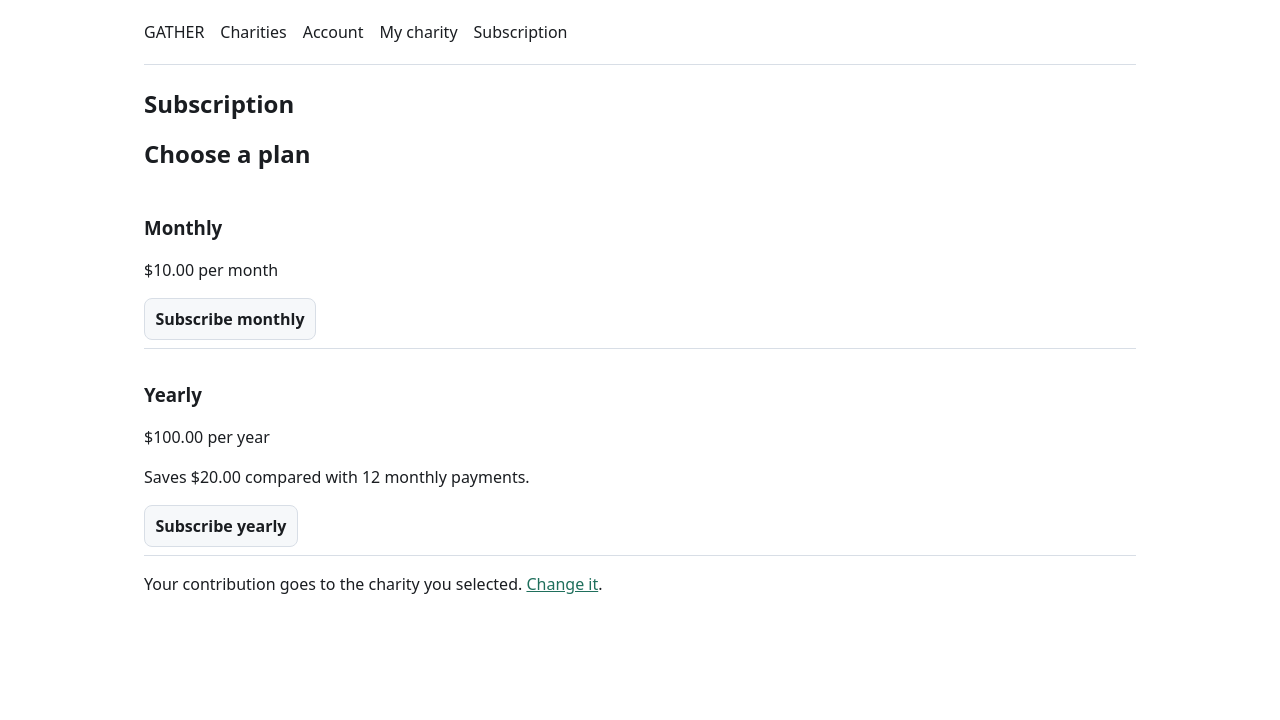
Test: starting Checkout › the server refuses with {"status":422,"code":"charity_required"}: the user is told what to do, and is NOT sent to Stripe
The width and height of the screenshot is (1280, 720).
Check: the list named "Plans" is shown, box [144,189,1136,556]
Click the button "Subscribe monthly".
click(230, 319)  # box [144,298,316,340]
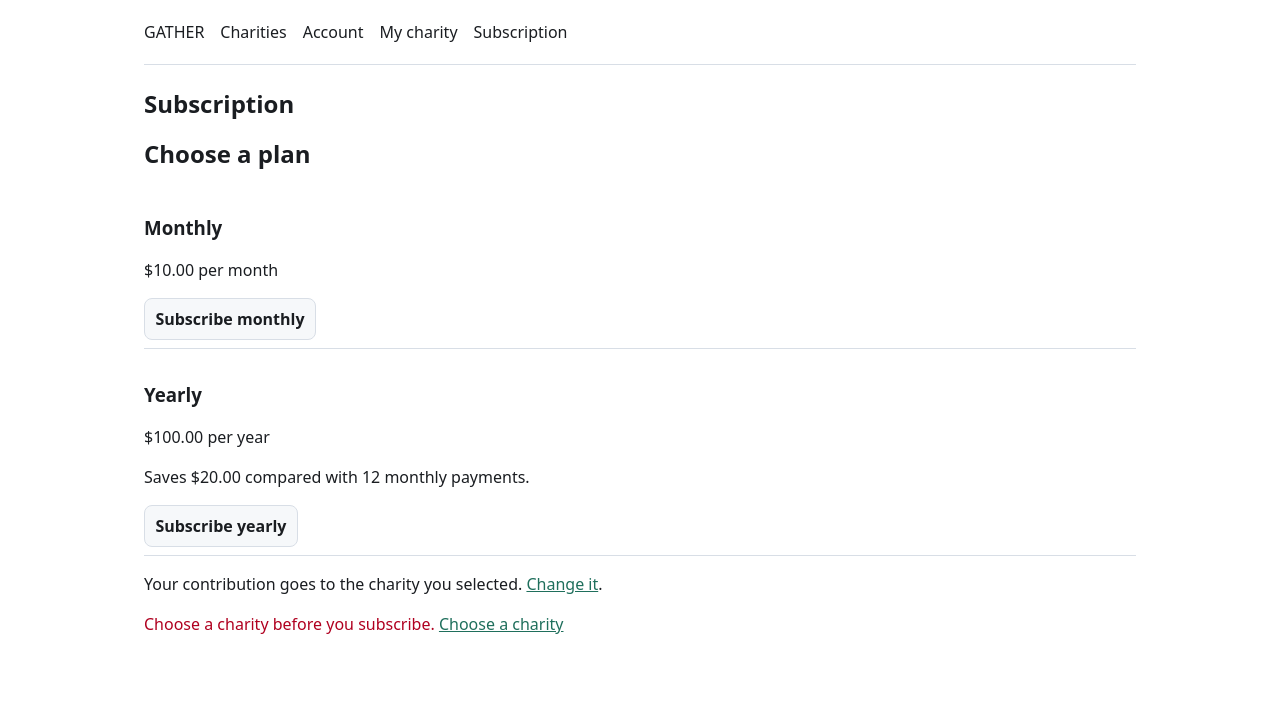
Check: the message shows "Choose a charity before you subscribe", box [144,614,435,636]
Check: the number of links "Choose a charity" is 1, box [439,614,564,636]
